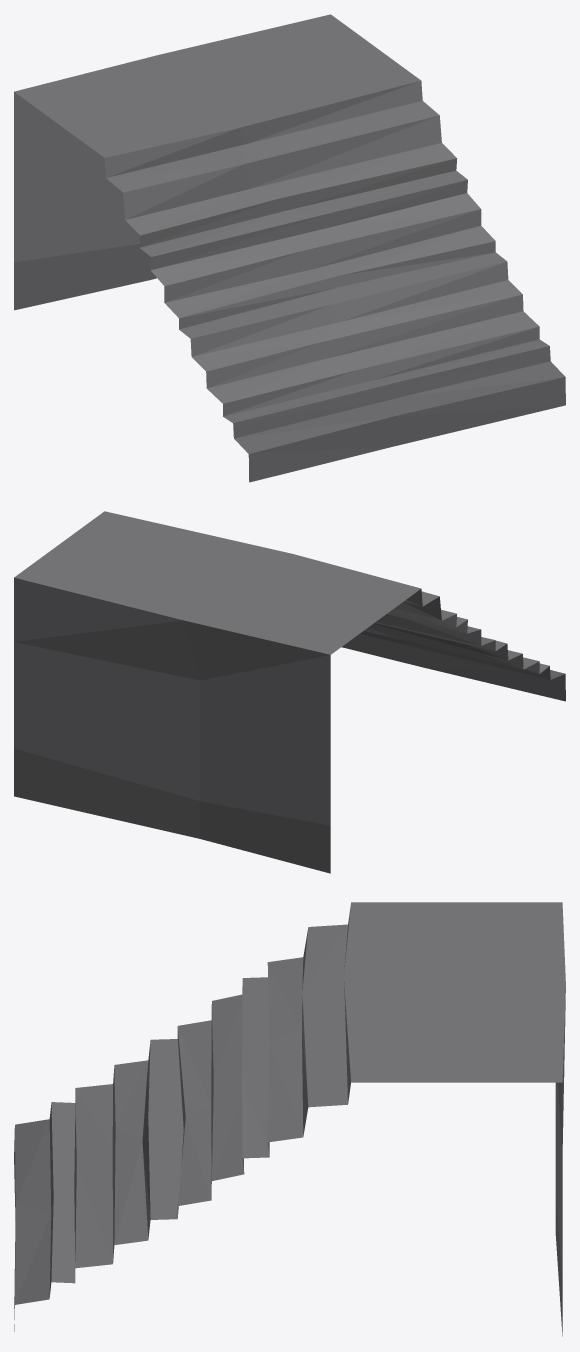
The model's file is SM_Bld_StairsLarge_01.gltf.
3 views of the same model, one above another, from view 1: azimuth 30°, elevation 25°; view 2: azimuth 150°, elevation 25°; view 3: azimuth 270°, elevation 25° (orthographic). The views are drawn at different scales.
Visible parts, largest first — view 1: SM_Bld_StairsLarge_01; view 2: SM_Bld_StairsLarge_01; view 3: SM_Bld_StairsLarge_01.
Boxes of the visible parts, x1=… form: SM_Bld_StairsLarge_01: x1=14, y1=14, x2=565, y2=482; SM_Bld_StairsLarge_01: x1=14, y1=511, x2=565, y2=873; SM_Bld_StairsLarge_01: x1=14, y1=902, x2=565, y2=1336.
Size of the model in its own units: 3 by 1.98 by 3.88.
1 material, 1 textured.
